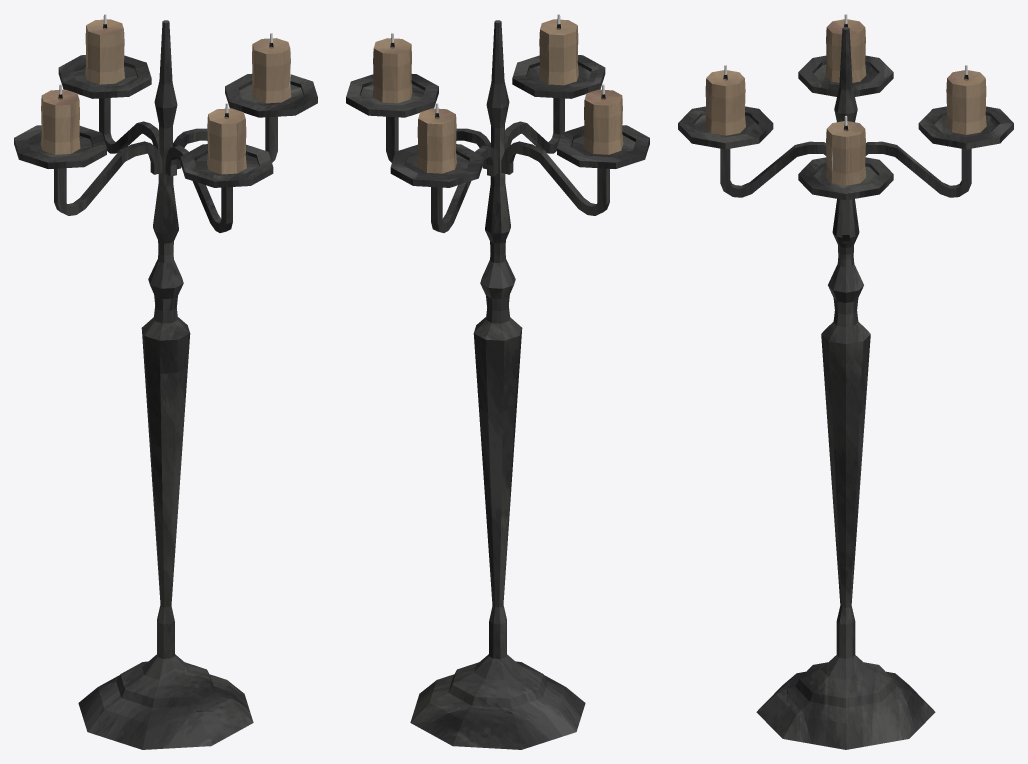
File: candel.fbx
3 views of the same model, side by side, from view 1: azimuth 30°, elevation 25°; view 2: azimuth 150°, elevation 25°; view 3: azimuth 270°, elevation 25° (orthographic).
Visible parts, largest first — view 1: Cube.001; view 2: Cube.001; view 3: Cube.001.
Boxes of the visible parts, x1,y1,x2,y2 form: Cube.001: [14, 14, 317, 749]; Cube.001: [346, 14, 649, 749]; Cube.001: [678, 14, 1013, 749].
Size of the model in its own units: 20.91 by 46.95 by 20.91.
4 materials, 2 textured.
